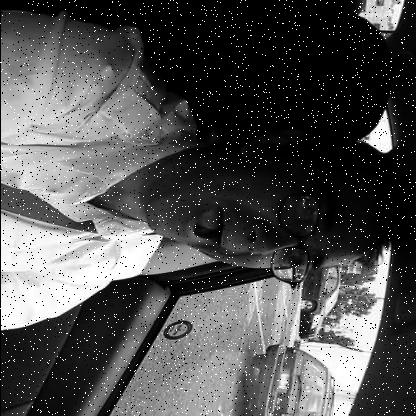seatbelt: (0, 96, 416, 280)
